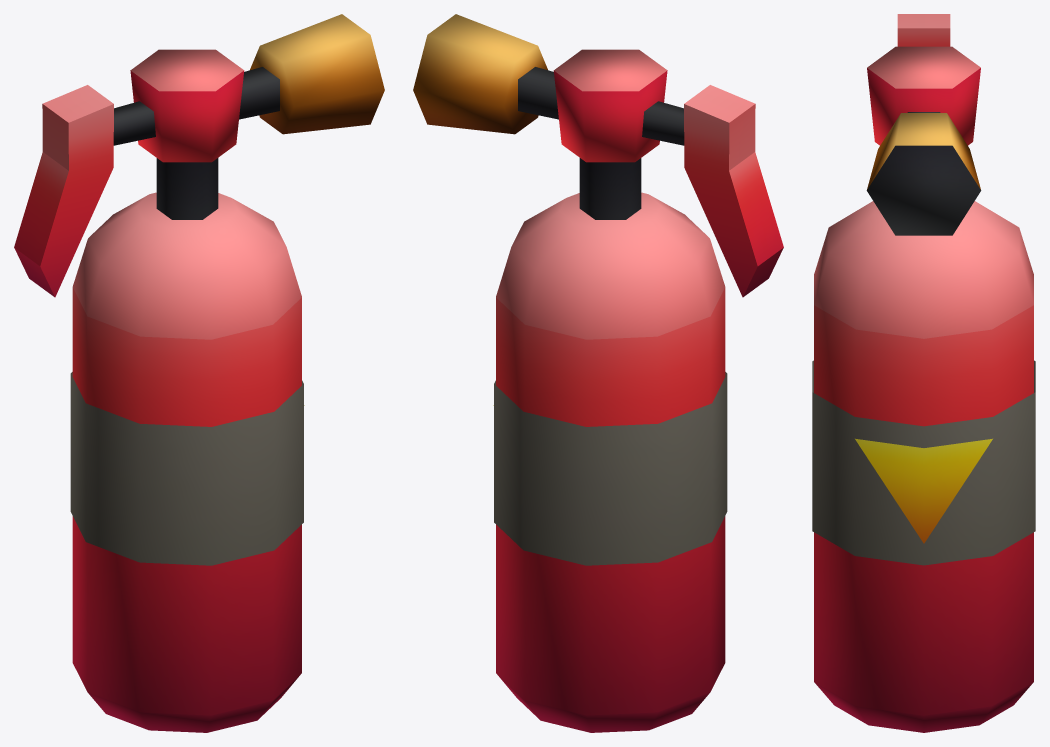
The model's file is Extinguisher_1A.fbx.
The picture shows the model from 3 angles, left to right: view 1: azimuth 30°, elevation 25°; view 2: azimuth 150°, elevation 25°; view 3: azimuth 270°, elevation 25°; orthographic projection.
Visible parts, largest first — view 1: Extinguisher_1A; view 2: Extinguisher_1A; view 3: Extinguisher_1A.
Boxes of the visible parts, x1=… form: Extinguisher_1A: x1=14, y1=14, x2=384, y2=732; Extinguisher_1A: x1=413, y1=14, x2=783, y2=732; Extinguisher_1A: x1=812, y1=14, x2=1035, y2=732.
Size of the model in its own units: 0.4514 by 0.8234 by 0.2647.
